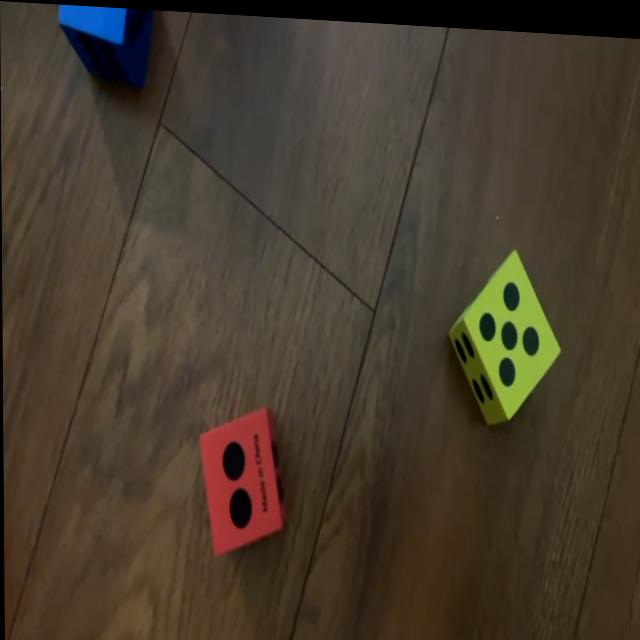cube: (197, 400, 286, 552), (57, 3, 152, 78)
